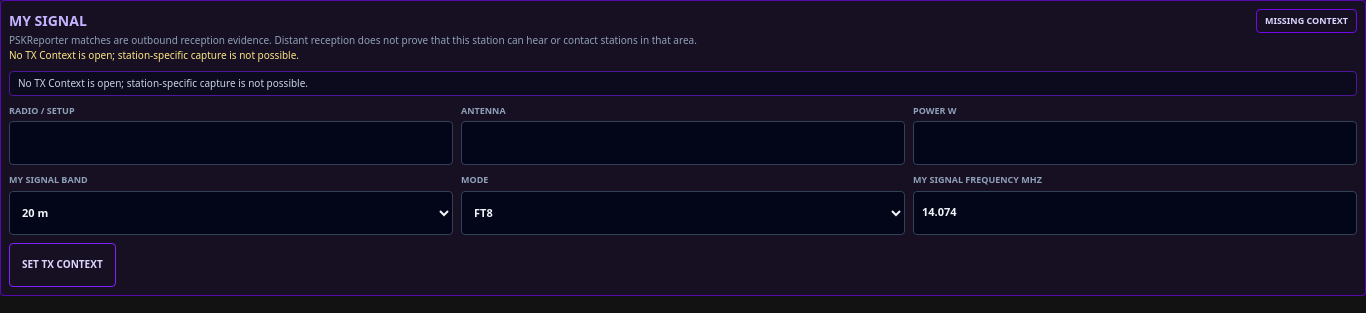
Test case: MySignalPanel › sets an Activation-owned TX Context with field-level WSJT-X provenance
expect the button "SET TX CONTEXT" is shown: met, box x1=9 y1=242 x2=116 y2=286
expect the dropdown labelled "MY SIGNAL BAND" shows "20 m": met, box x1=9 y1=190 x2=453 y2=234
Type "IC-705" into the field named "MY SIGNAL RADIO / SETUP" at x=231, y=143, box x1=9 y1=121 x2=453 y2=165
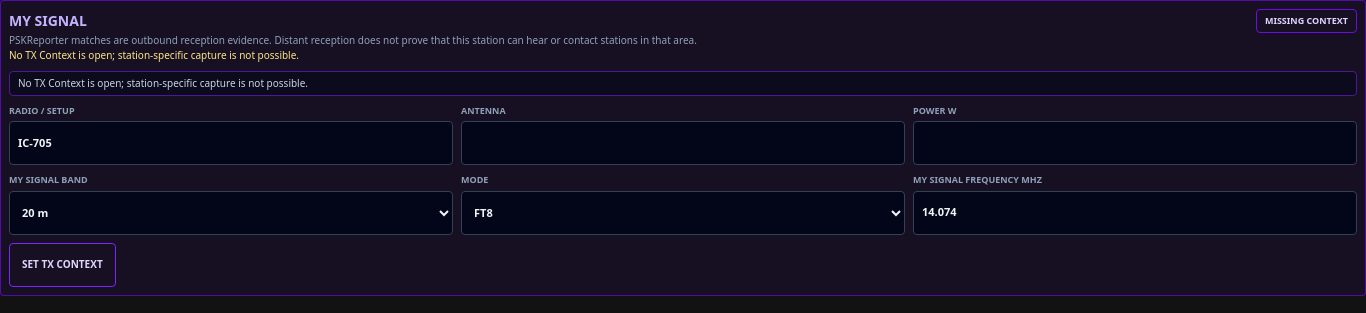
Type "EFHW" into the field named "MY SIGNAL ANTENNA" at x=683, y=143, box x1=461 y1=121 x2=905 y2=165
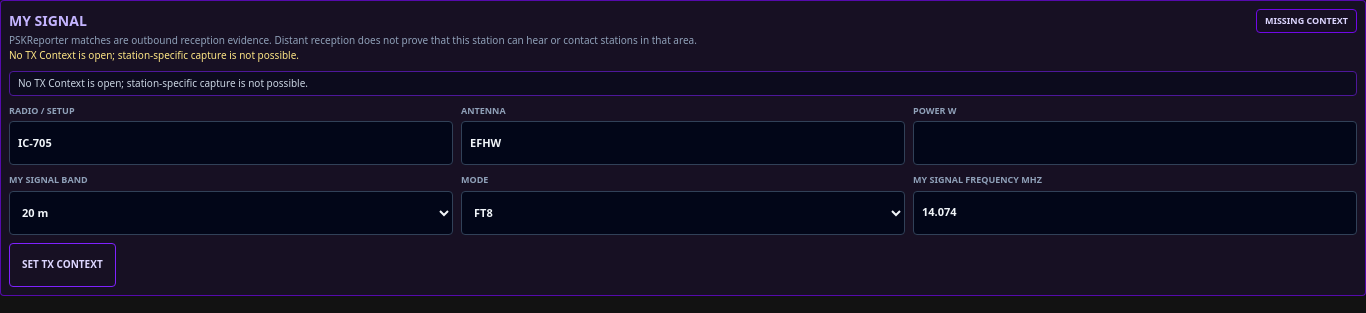
Type "10" into the number field named "MY SIGNAL POWER W" at x=1135, y=143, box x1=913 y1=121 x2=1357 y2=165
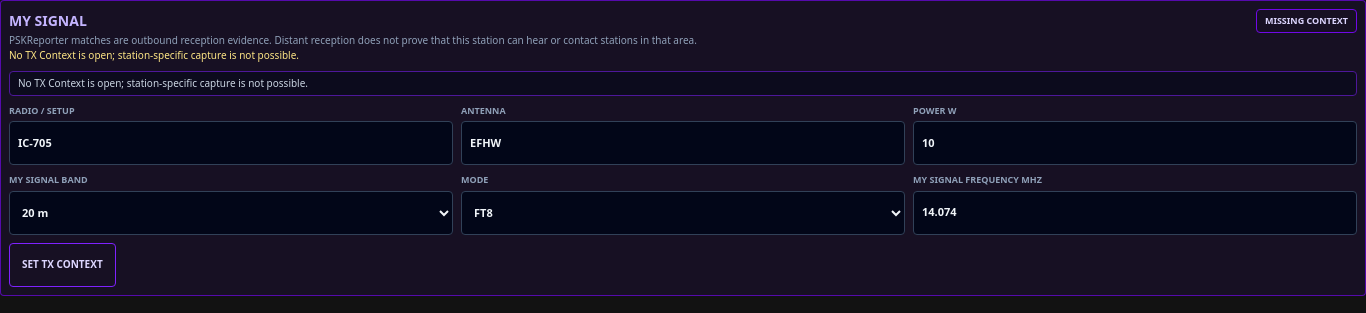
Click the button "SET TX CONTEXT" at x=62, y=264, box x1=9 y1=242 x2=116 y2=286
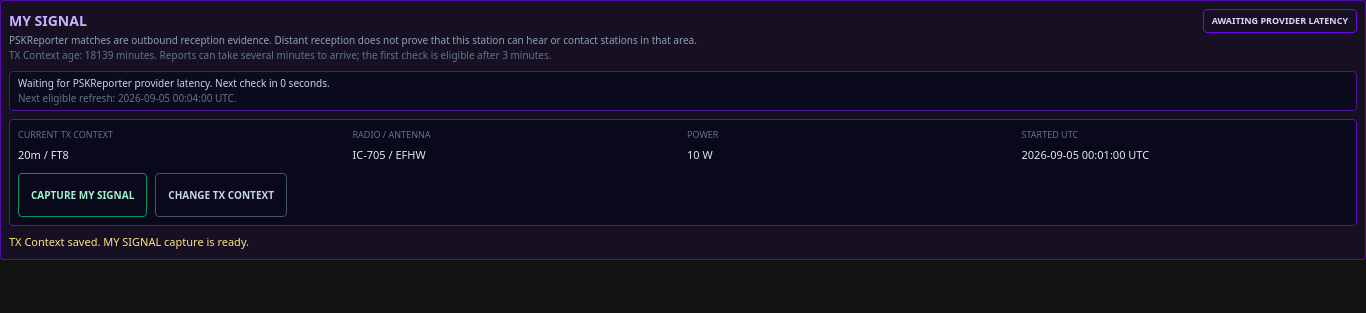
expect the text "TX Context saved. MY SIGNAL capture is ready." is shown: met, box x1=9 y1=234 x2=249 y2=249
